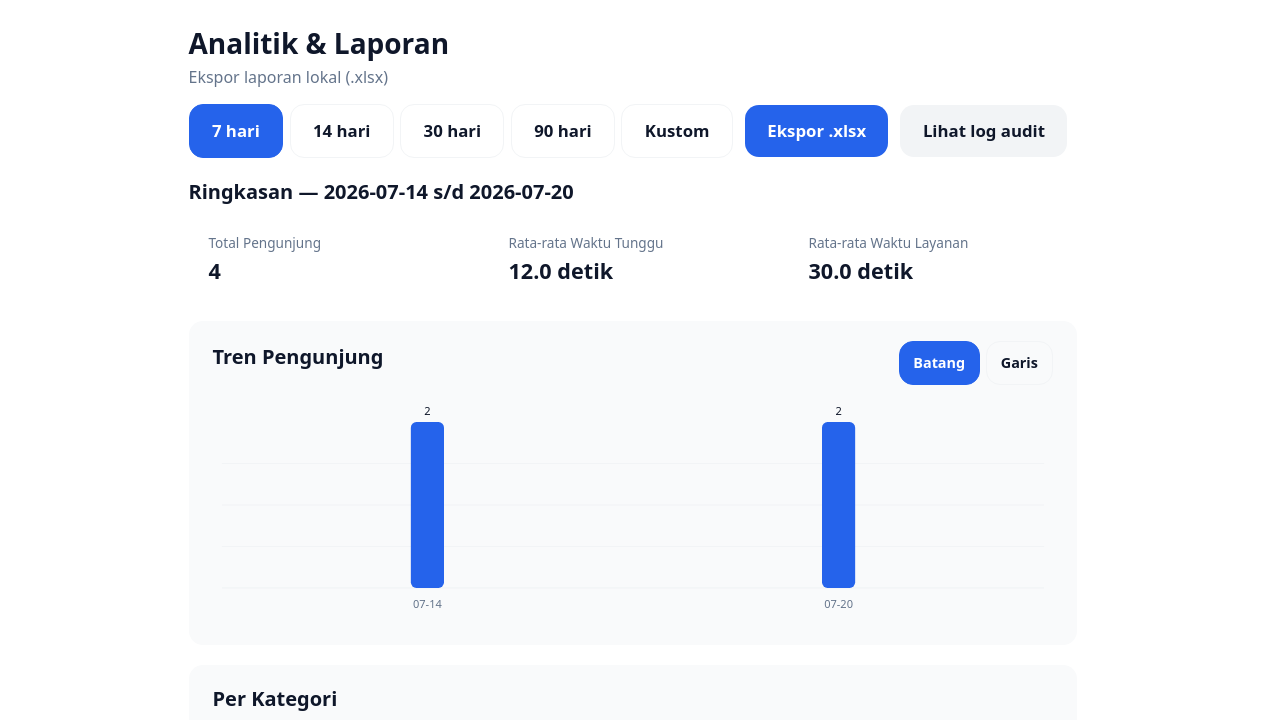
AnalyticsPage — export feedback › announces a FAILED export instead of swallowing the rejection
Expected: the text "4" is shown, [208, 256, 221, 285]
Click the button with test id "analytics-export": [817, 131] box [745, 105, 888, 157]
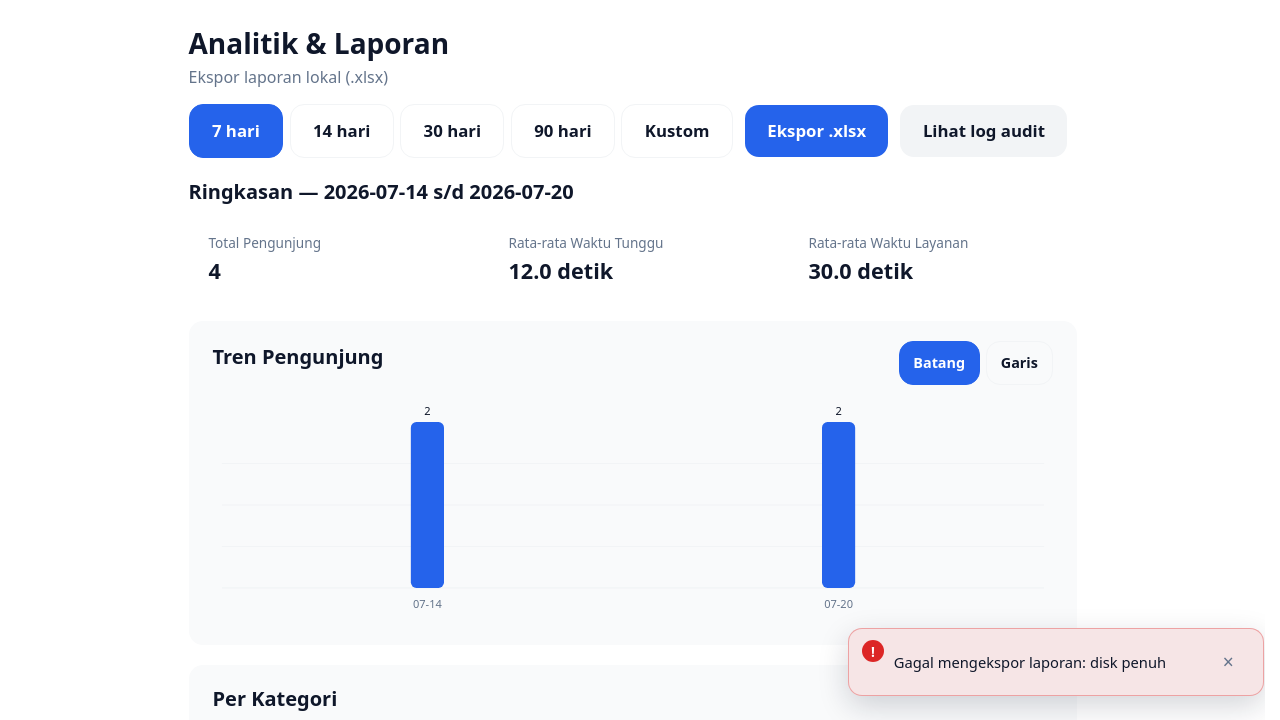
Now the text "Gagal mengekspor laporan: disk penuh" is shown, box [894, 652, 1197, 672]
